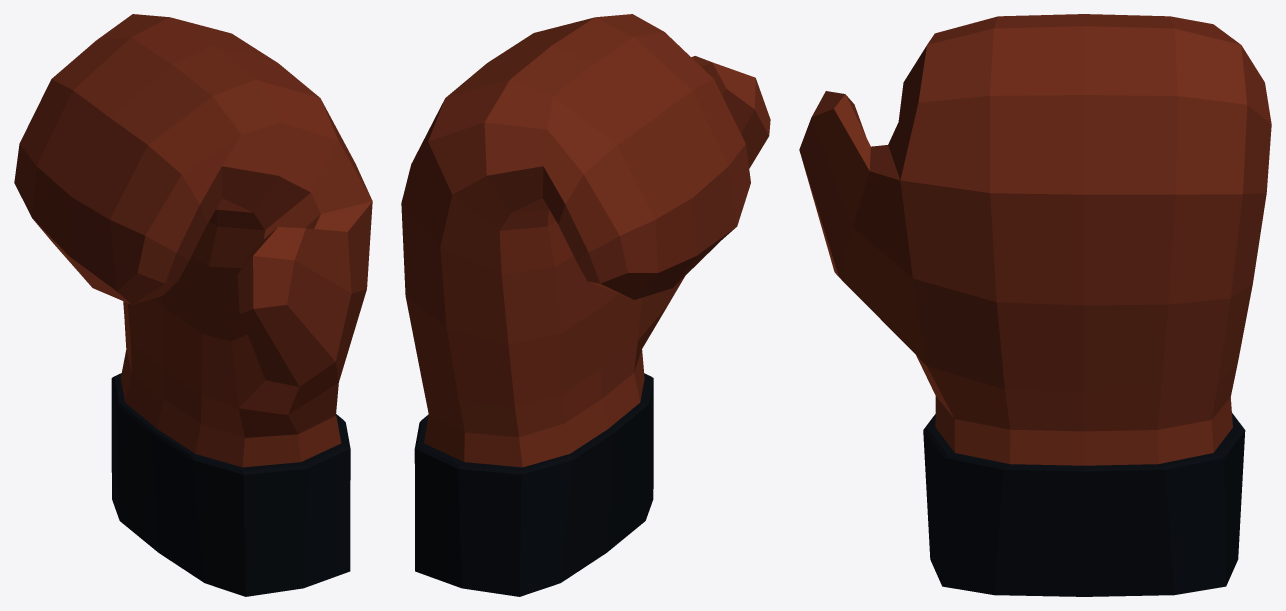
File: glove_single.glb
3 views of the same model, side by side, from view 1: azimuth 30°, elevation 25°; view 2: azimuth 150°, elevation 25°; view 3: azimuth 270°, elevation 25° (orthographic). The views are drawn at different scales.
Visible parts, largest first — view 1: LBoxingGloves1; view 2: LBoxingGloves1; view 3: LBoxingGloves1.
Boxes of the visible parts, x1,y1,x2,y2 form: LBoxingGloves1: (14,14,372,596); LBoxingGloves1: (401,14,770,596); LBoxingGloves1: (799,14,1271,596).
Size of the model in its own units: 0.1712 by 0.3263 by 0.2665.
